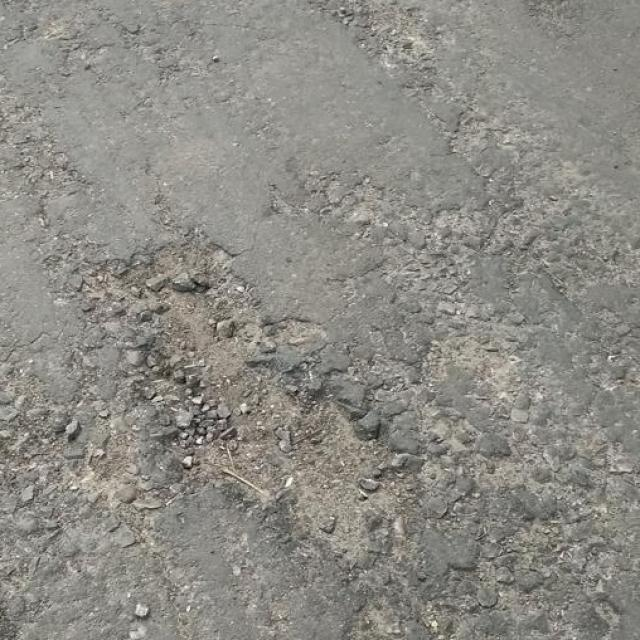road-pothole: (80, 227, 438, 587)
